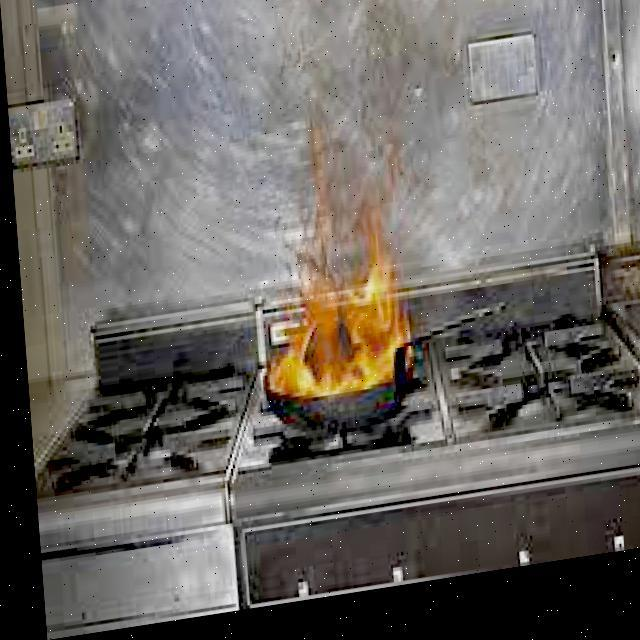Fire: (237, 148, 412, 424)
